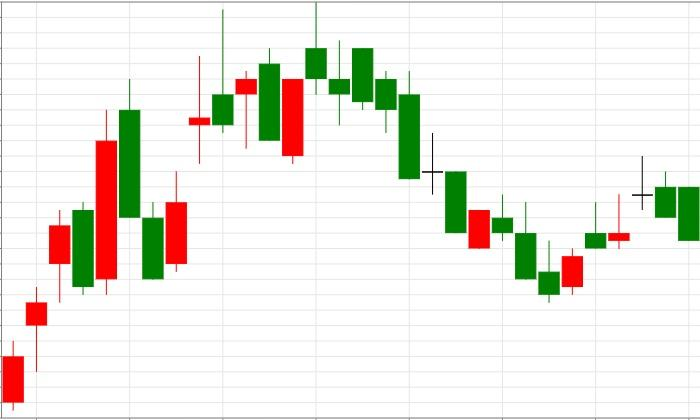bearish_engulfing_fall: (1, 109, 117, 411)
